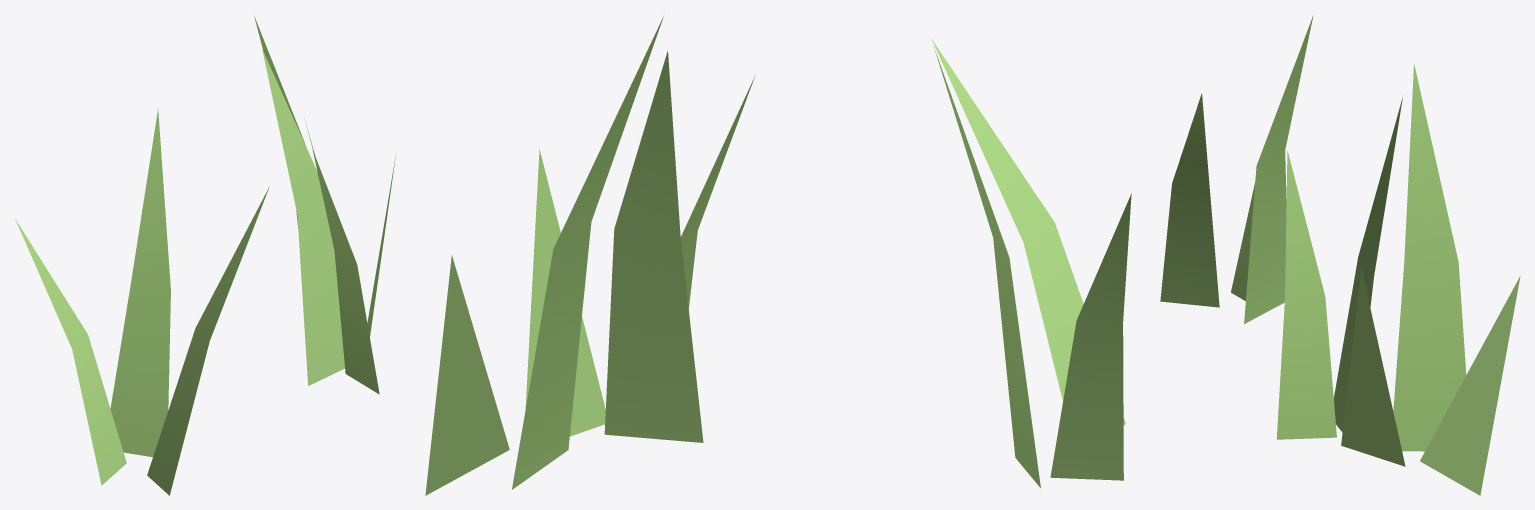
The model's file is Grass_a_OneS_05.fbx.
3 views of the same model, side by side, from view 1: azimuth 30°, elevation 25°; view 2: azimuth 150°, elevation 25°; view 3: azimuth 270°, elevation 25° (orthographic). The views are drawn at different scales.
Parts seen in each view (by area): view 1: Grass_a_OneS_05; view 2: Grass_a_OneS_05; view 3: Grass_a_OneS_05.
Part boxes in pixels (bbox=[...]): Grass_a_OneS_05: bbox=[15, 16, 396, 495]; Grass_a_OneS_05: bbox=[425, 16, 1131, 495]; Grass_a_OneS_05: bbox=[1160, 15, 1520, 495].
Size of the model in its own units: 79.99 by 64.05 by 57.49.
